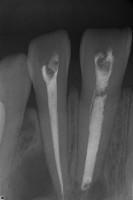Furcation Involvement: (8, 143, 59, 200), (88, 177, 109, 200)
